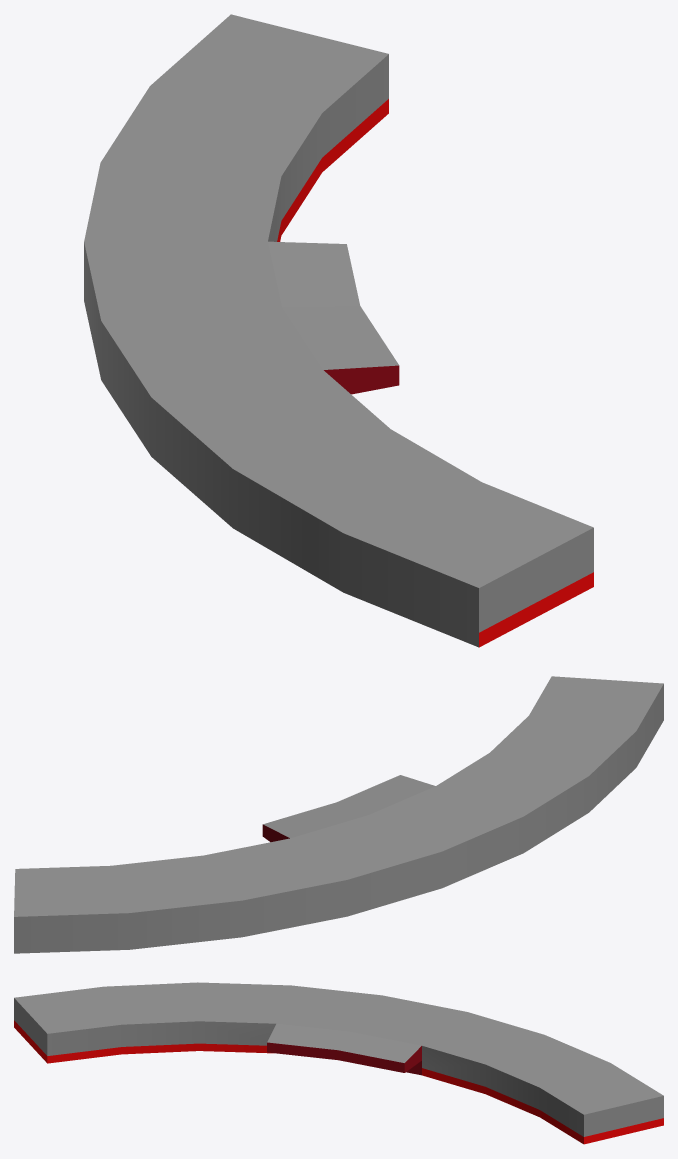
Rendered from Grada2PivoteBienPuesto.FBX.
The picture shows the model from 3 angles, top to bottom: view 1: azimuth 30°, elevation 25°; view 2: azimuth 150°, elevation 25°; view 3: azimuth 270°, elevation 25°; orthographic projection. The views are drawn at different scales.
Visible parts, largest first — view 1: Gradas025; view 2: Gradas025; view 3: Gradas025.
Boxes of the visible parts, x1,y1,x2,y2 form: Gradas025: (84, 14, 593, 647); Gradas025: (14, 676, 663, 953); Gradas025: (14, 982, 663, 1144).
Bounding box in the file's own units: 4.34 × 0.4544 × 9.01.
